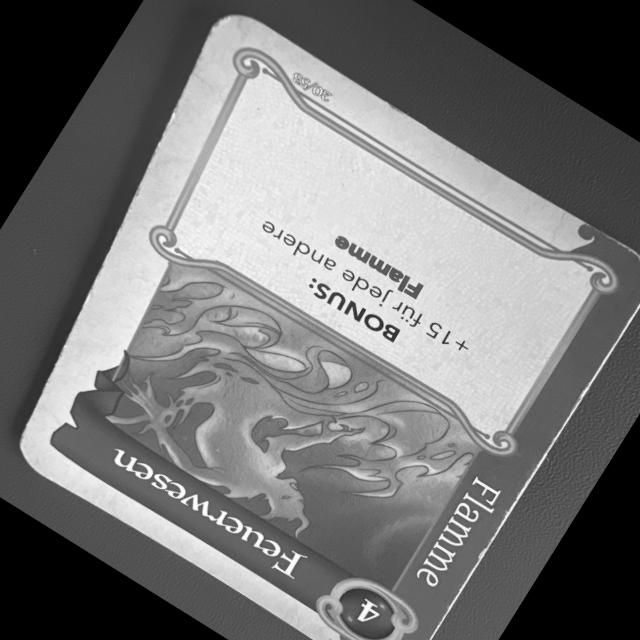Fire Elemental: (9, 0, 640, 640)
